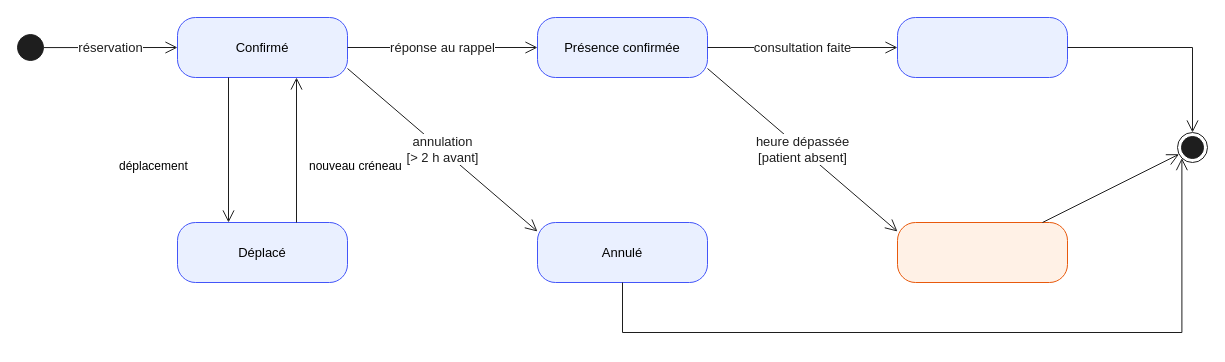
The diagram is 1225 pixels wide and 362 high, and some of its shapes have lost their labels. Here are the shapes that lost their labels. From the top down, the centre of each, then its label:
point (982, 47): Terminé
point (982, 252): Absent
